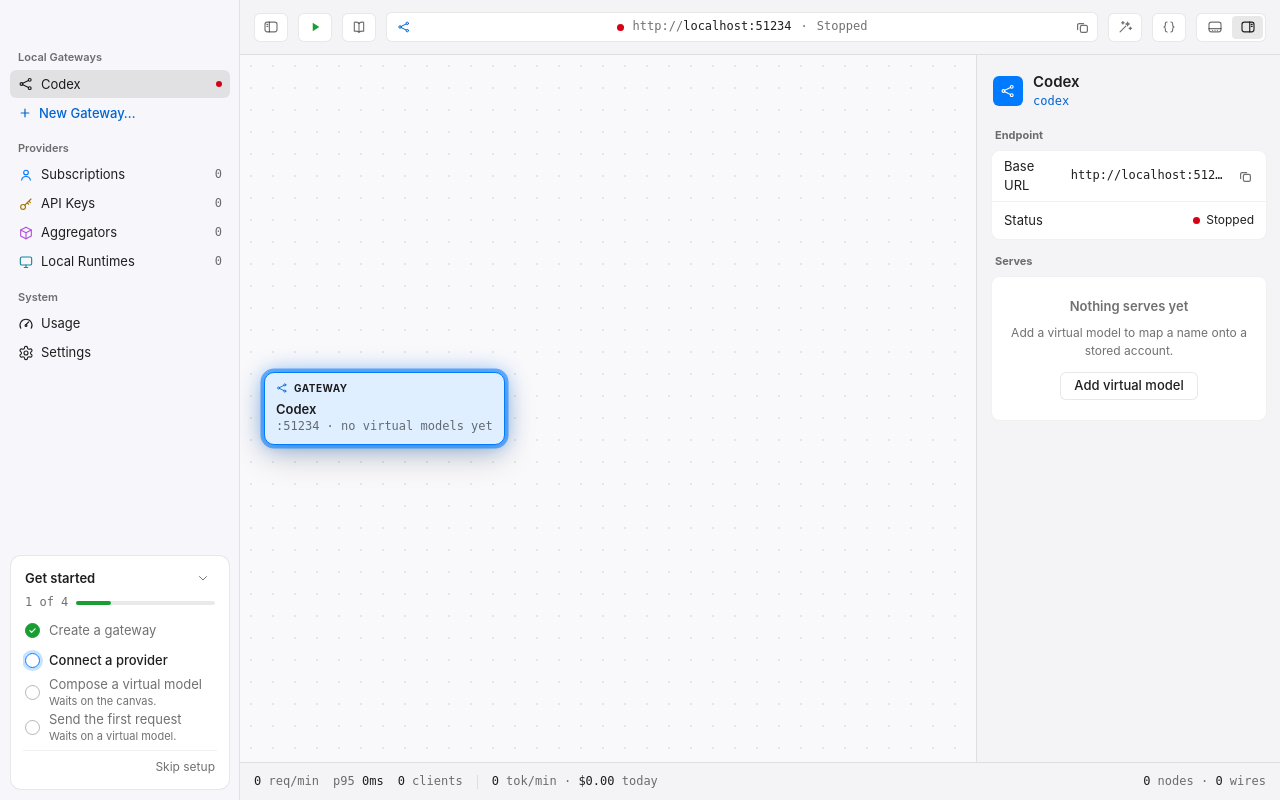
with nothing stored that can serve, the target says so instead of offering nothing
Click the button "Add virtual model".
click(1129, 386)  # box [1060,372,1198,400]
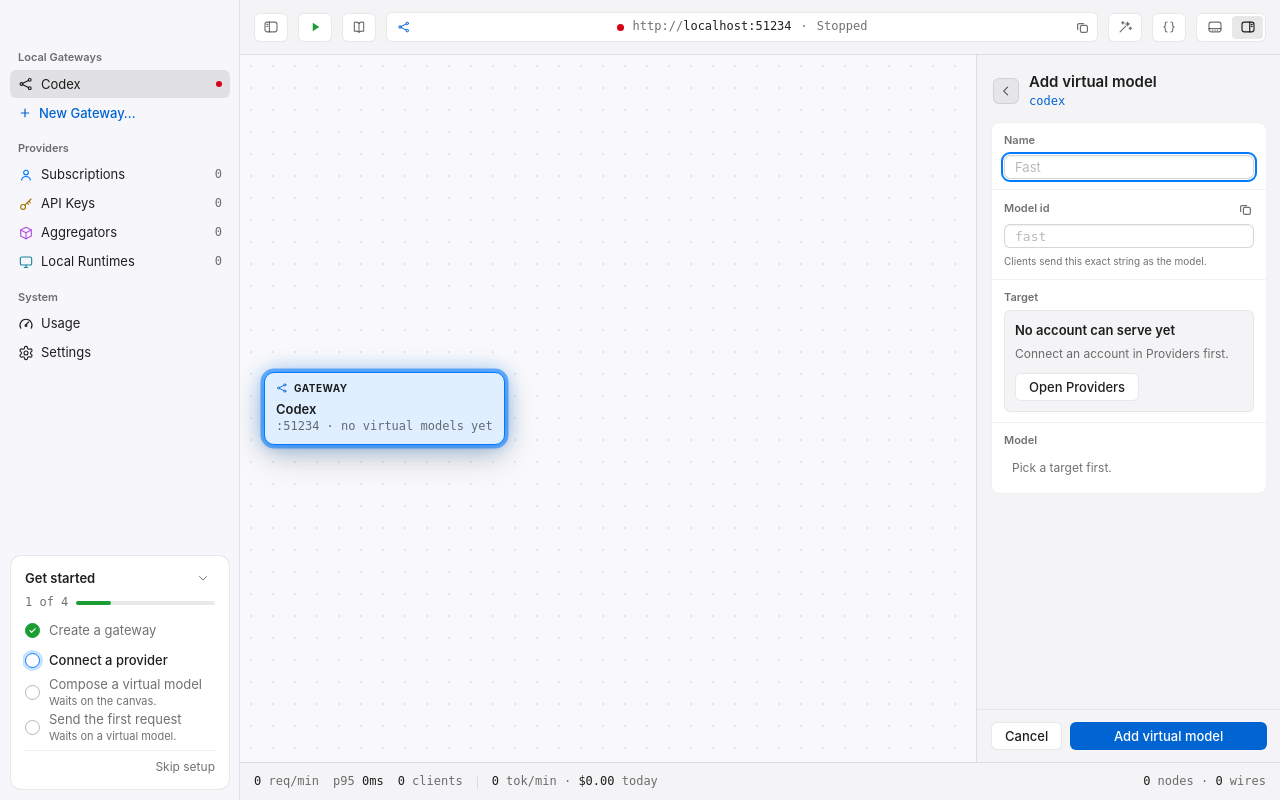
expect the text "No account can serve yet" is shown: met, box [1015,320,1175,339]
expect the link "Open Providers" is shown: met, box [1015,373,1139,401]
